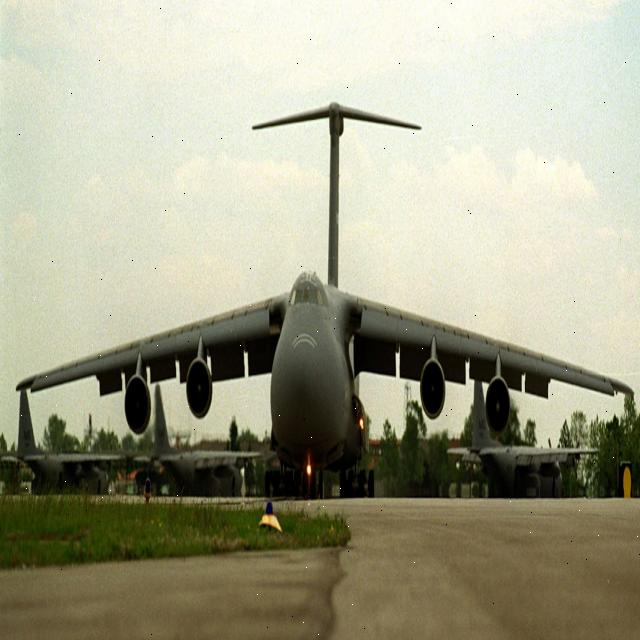C5: (0, 54, 631, 522)
